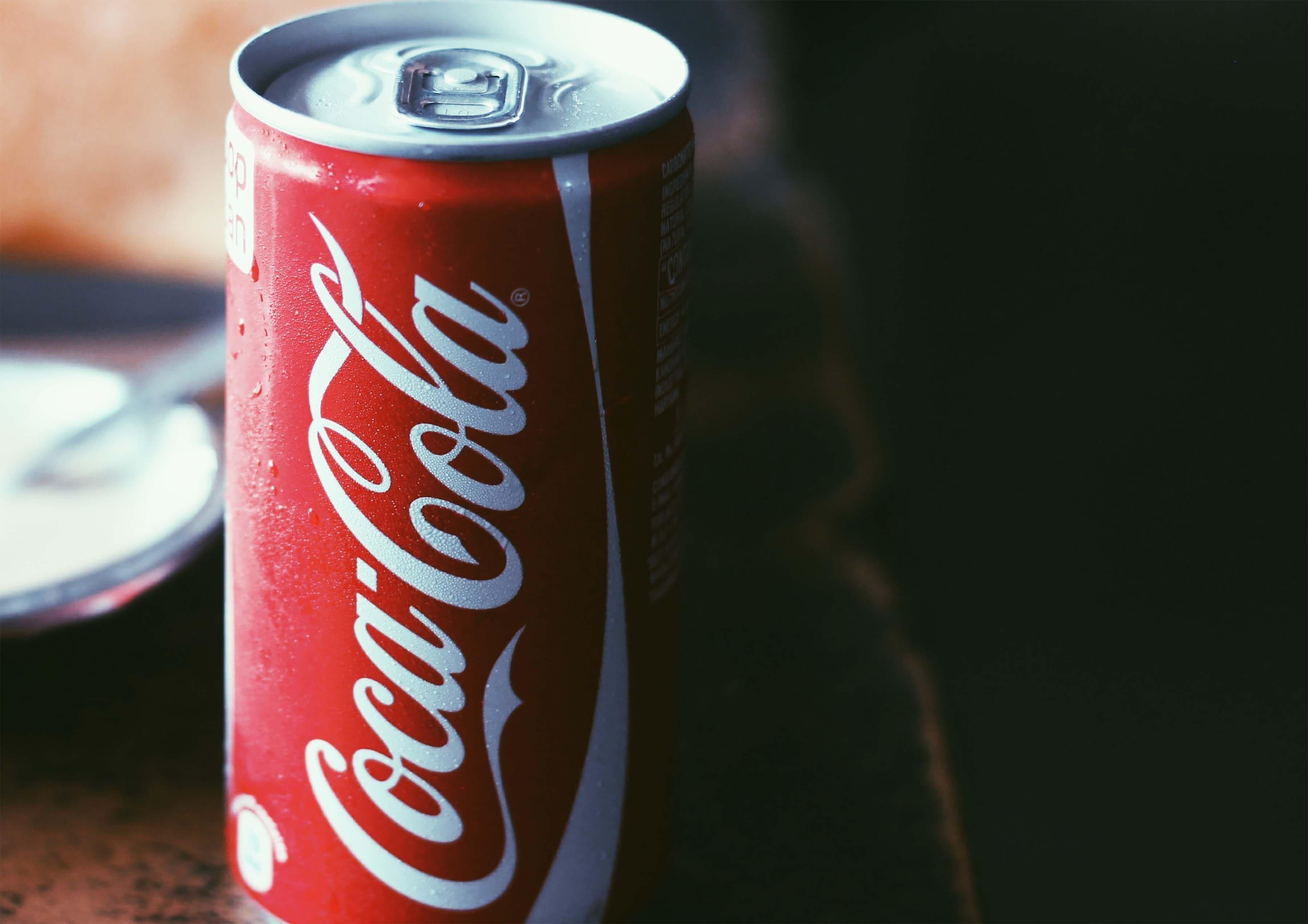tin can: (222, 0, 700, 921)
